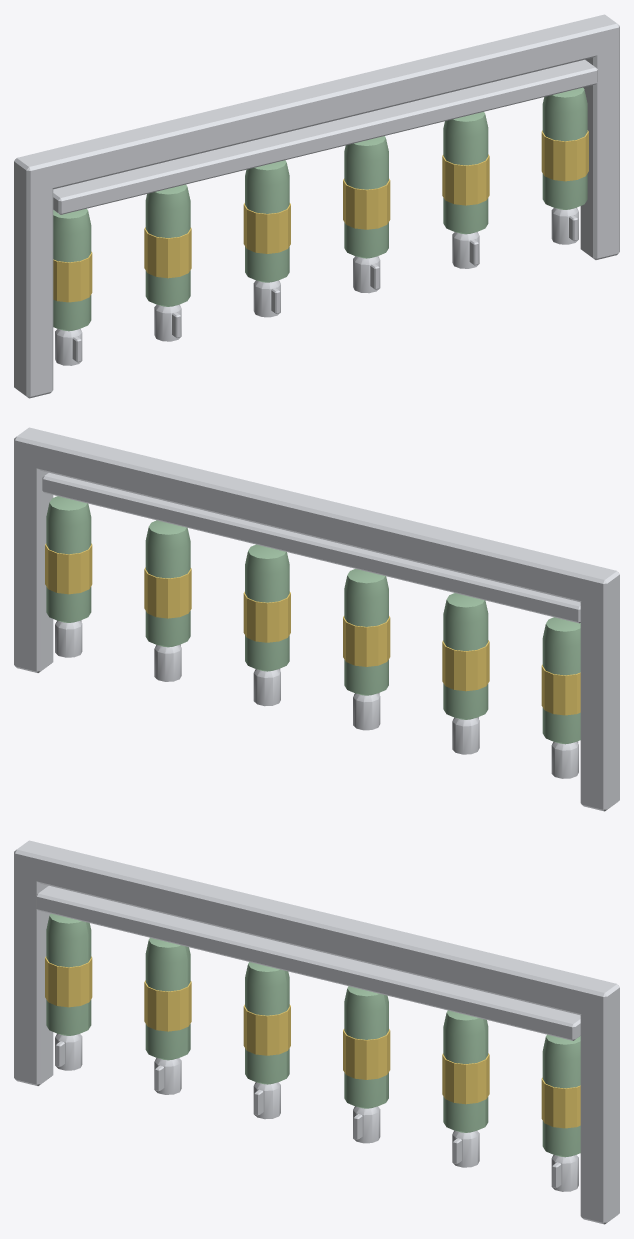
Rendered from nightclub-and-dj-booth-optics-rail-a5550ac4.glb.
The picture shows the model from 3 angles, top to bottom: view 1: azimuth 30°, elevation 25°; view 2: azimuth 150°, elevation 25°; view 3: azimuth 330°, elevation 25°; orthographic projection.
Parts seen in each view (by area): view 1: optics-rail; view 2: optics-rail; view 3: optics-rail.
Boxes of the visible parts, x1,y1,x2,y2 form: optics-rail: [14, 14, 619, 398]; optics-rail: [14, 427, 619, 811]; optics-rail: [14, 840, 619, 1224].
Size of the model in its own units: 1.1 by 0.41 by 0.078.
